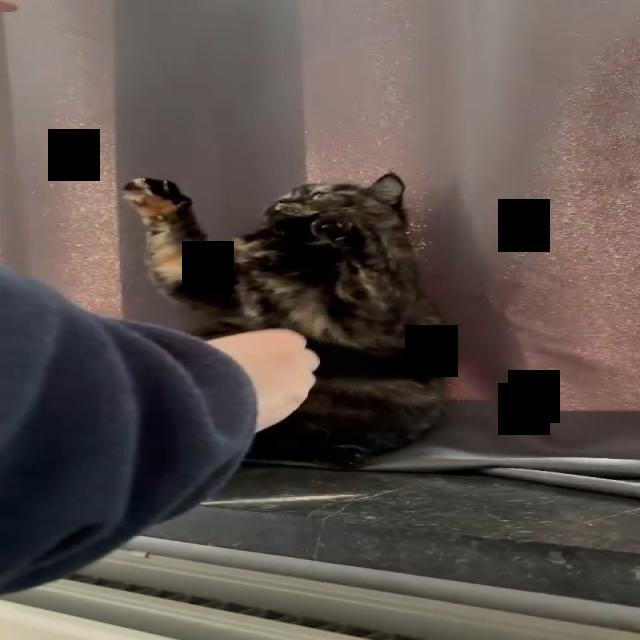authorized: (120, 169, 455, 469)
